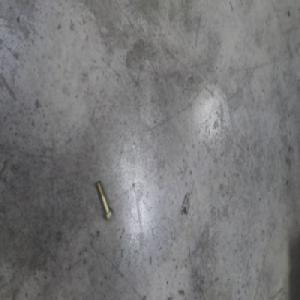Bolt: (94, 179, 113, 221)
